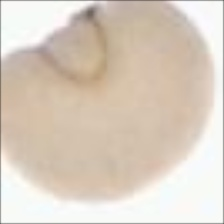L5: (35, 10, 115, 86)
L6: (1, 1, 223, 209)
